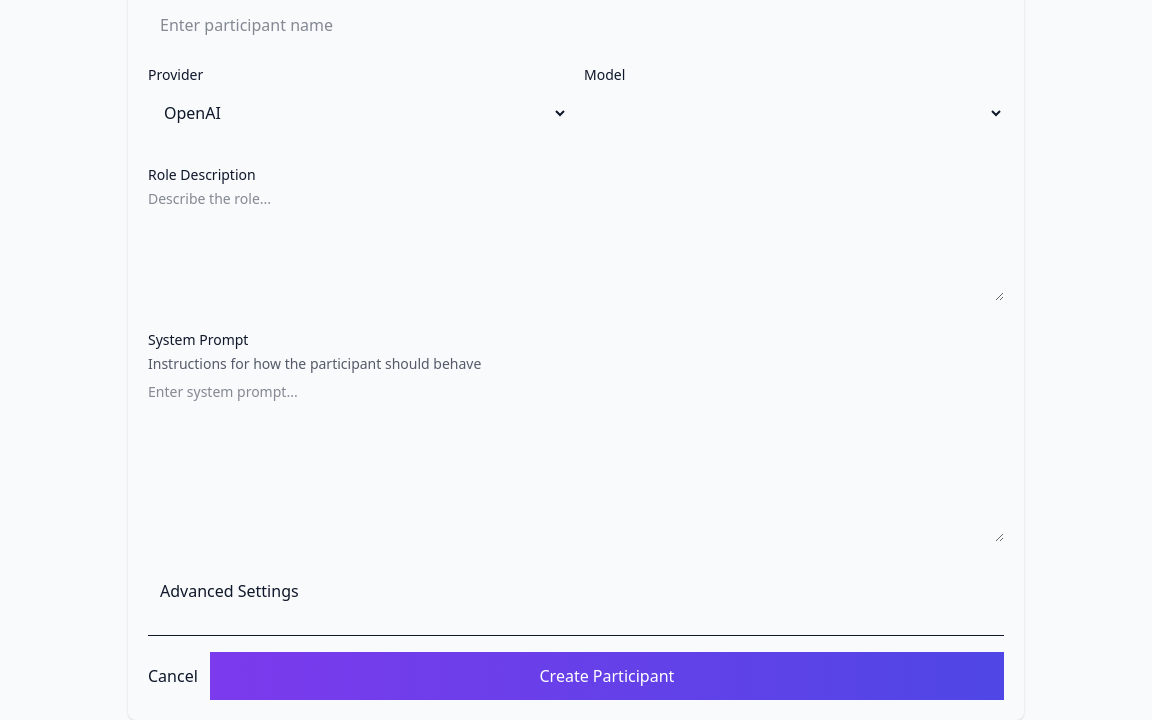
ParticipantForm › shows validation errors for required fields
(page scrolled)
Click the button "Create Participant" at [607, 676], box [210,652,1004,700]
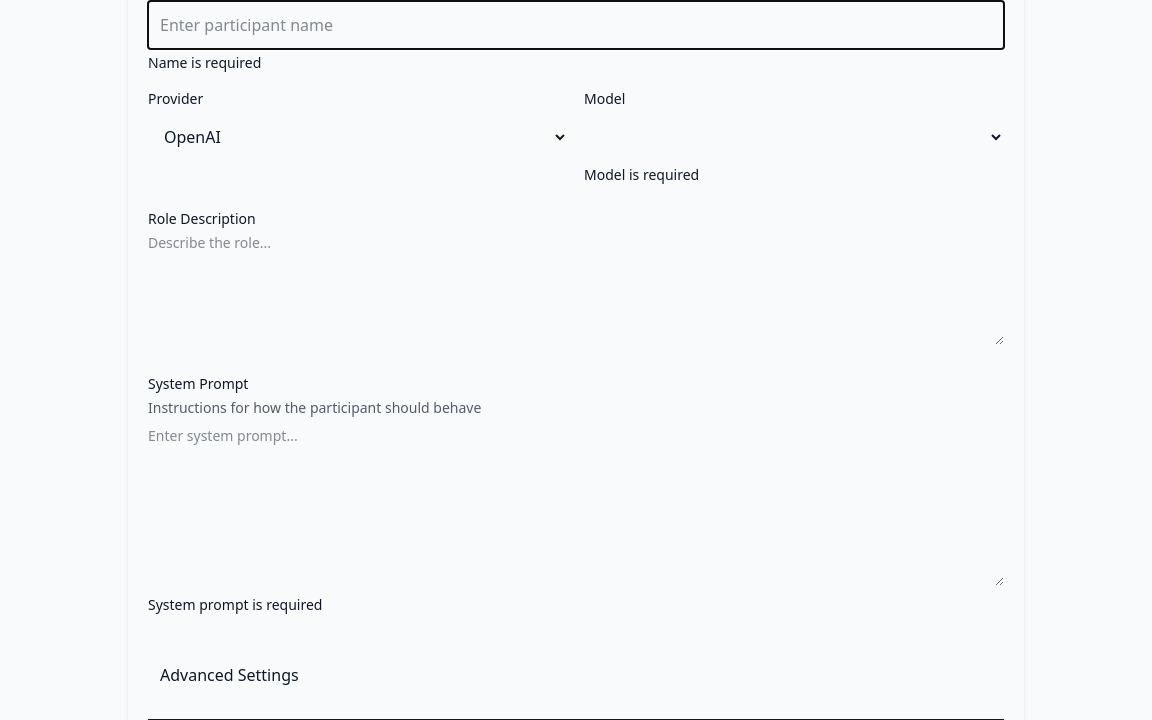
Check: the text "Name is required" is shown, box [148,53,261,72]
Check: the text "System prompt is required" is shown, box [148,595,322,614]
